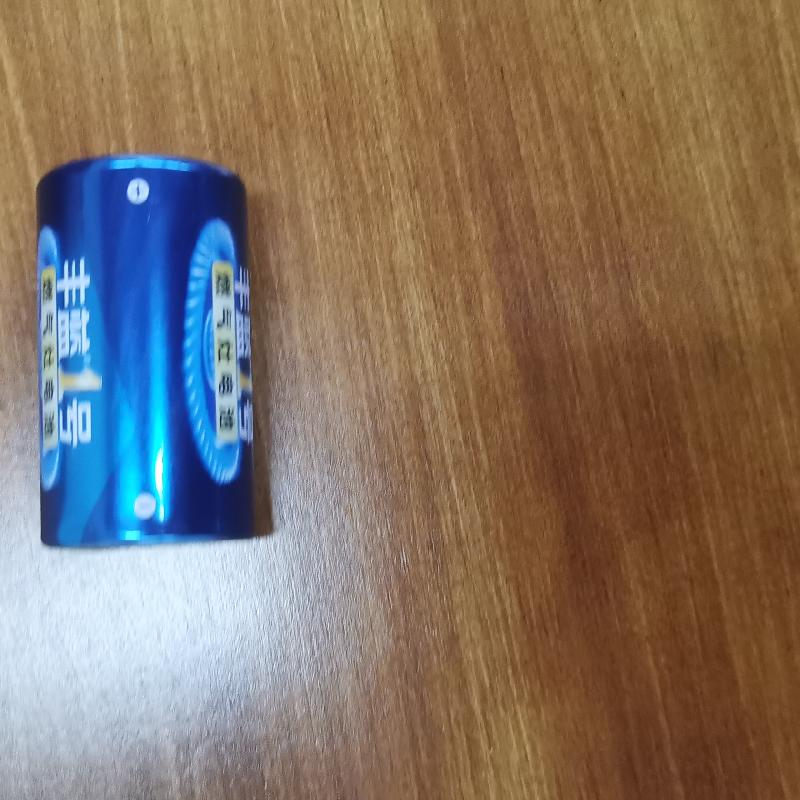battery: (20, 150, 263, 546)
